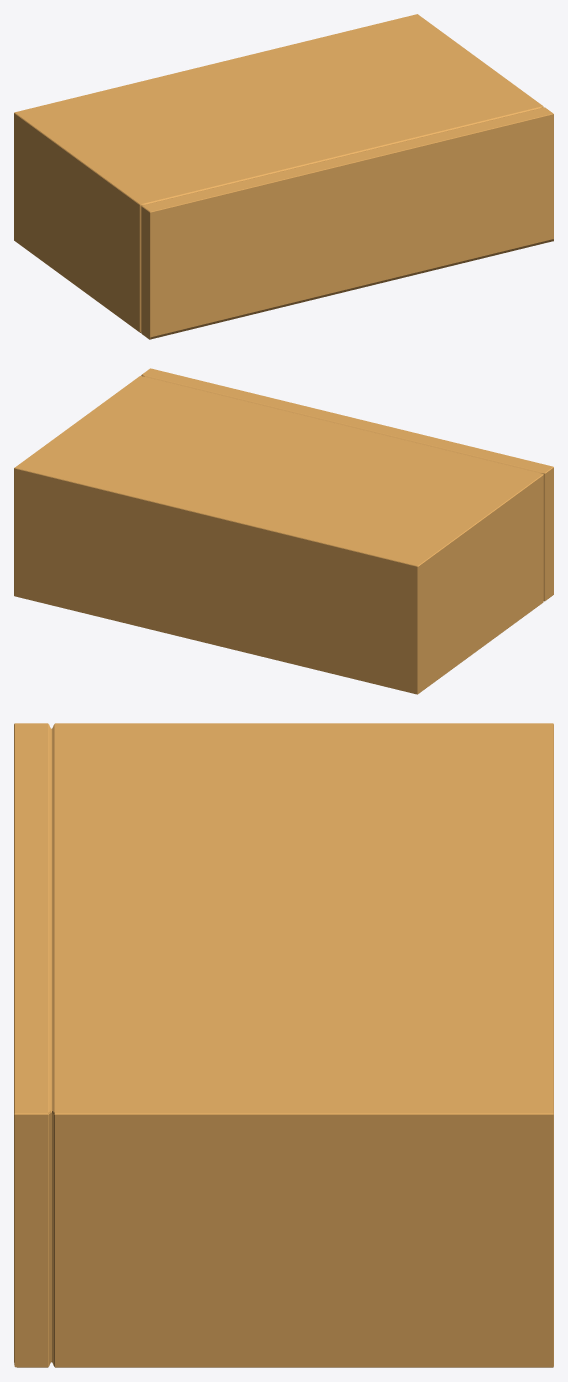
3 renders of one model, top to bottom at view 1: azimuth 30°, elevation 25°; view 2: azimuth 150°, elevation 25°; view 3: azimuth 270°, elevation 25°, orthographic. The views are drawn at different scales.
Visible parts, largest first — view 1: Fp320_Cube_1827; view 2: Fp320_Cube_1827; view 3: Fp320_Cube_1827.
Boxes of the visible parts, x1,y1,x2,y2 form: Fp320_Cube_1827: (14,14,553,339); Fp320_Cube_1827: (14,368,553,694); Fp320_Cube_1827: (14,723,553,1367).
Bounding box in the file's own units: 1.15 × 0.3482 × 0.6691.
